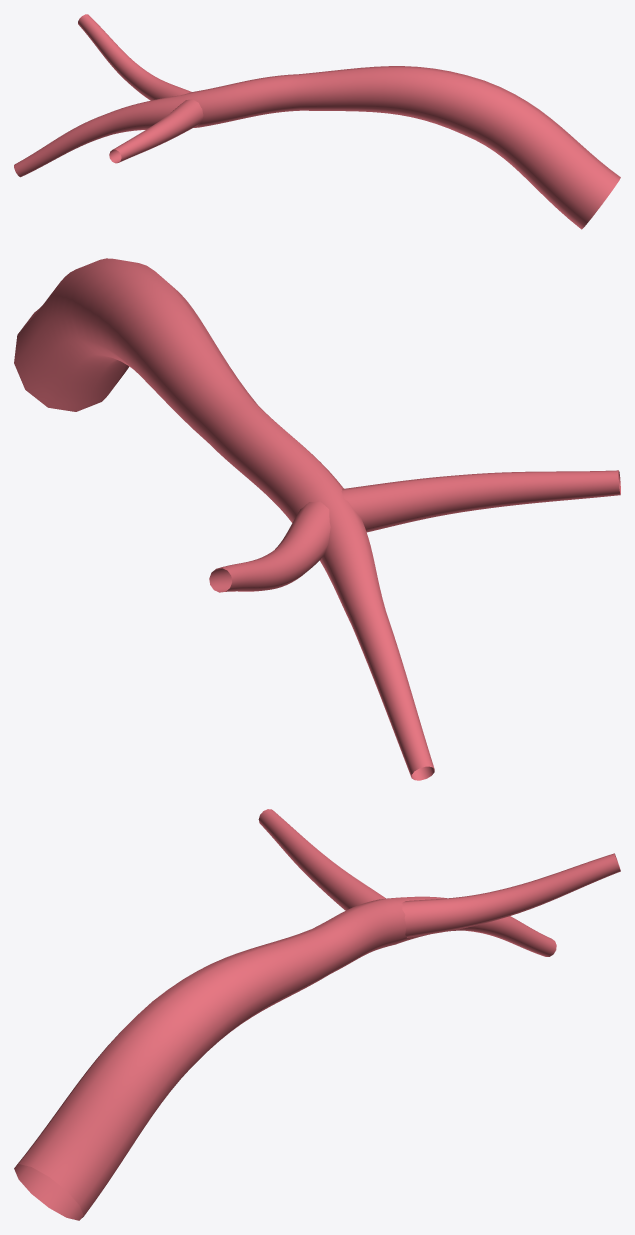
The picture shows the model from 3 angles, top to bottom: view 1: azimuth 30°, elevation 25°; view 2: azimuth 150°, elevation 25°; view 3: azimuth 270°, elevation 25°; orthographic projection. The views are drawn at different scales.
Visible parts, largest first — view 1: ZA_ca58ff329f27e653; view 2: ZA_ca58ff329f27e653; view 3: ZA_ca58ff329f27e653.
Boxes of the visible parts, <box> form: ZA_ca58ff329f27e653: <box>14,14,620,229</box>; ZA_ca58ff329f27e653: <box>14,258,620,780</box>; ZA_ca58ff329f27e653: <box>14,809,620,1220</box>.
Bounding box in the file's own units: 0.0683 × 0.0211 × 0.063.
